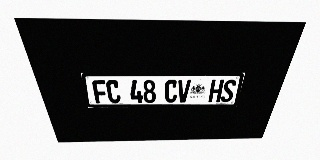4: (129, 80, 143, 103)
8: (143, 80, 156, 103)
C: (105, 80, 121, 103), (164, 80, 178, 103)
F: (92, 80, 108, 103)
H: (208, 80, 224, 102)
S: (220, 80, 237, 102)
V: (177, 80, 191, 102)
